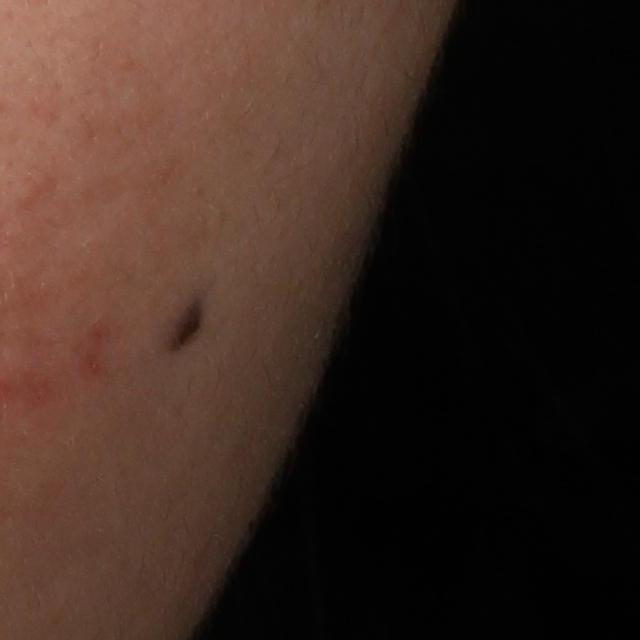nevus: (168, 295, 204, 354)
